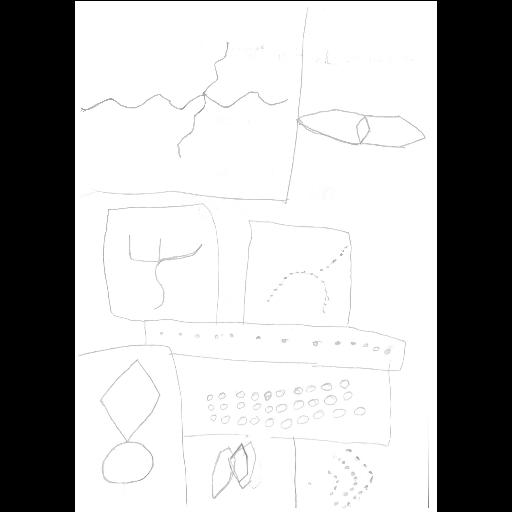shape-1: (96, 354, 164, 486)
shape-2: (152, 328, 392, 358)
shape-3: (207, 374, 369, 428)
shape-4: (303, 438, 379, 510)
shape-5: (125, 223, 205, 315)
shape-6: (264, 242, 348, 316)
shape-7: (79, 38, 289, 156)
shape-8: (202, 438, 258, 504)
shape-9: (292, 106, 430, 152)
